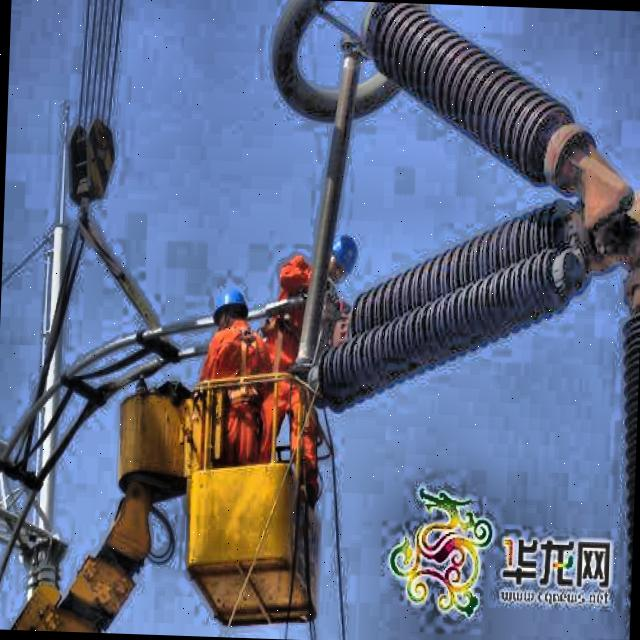helmet: (324, 230, 366, 294), (210, 282, 254, 341)
